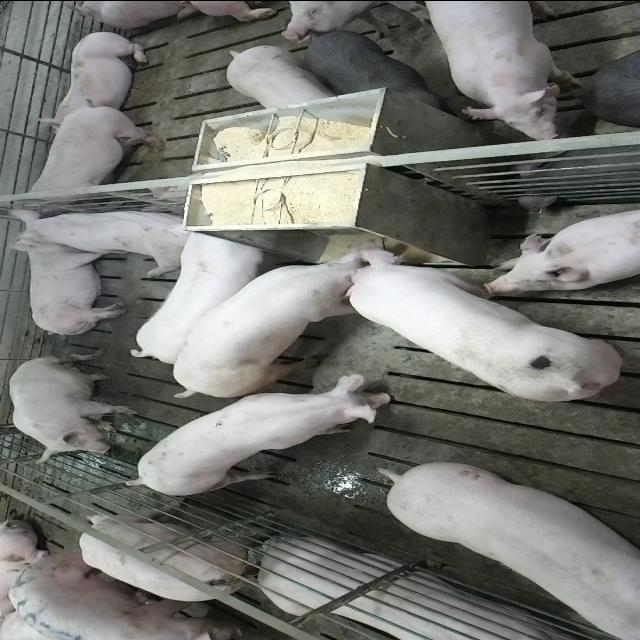Feeding: (343, 240, 624, 403), (168, 238, 388, 396)
Lateral_lying: (10, 235, 128, 337)
Sitting: (8, 354, 140, 462), (12, 203, 195, 270)
Standing: (384, 464, 640, 640), (126, 372, 398, 496), (76, 508, 274, 624), (415, 1, 579, 140), (7, 551, 255, 640), (128, 224, 280, 364), (20, 102, 166, 205), (301, 29, 457, 113), (226, 43, 338, 109), (584, 42, 638, 126)
Sternal_lying: (485, 206, 640, 292), (39, 30, 152, 120)
